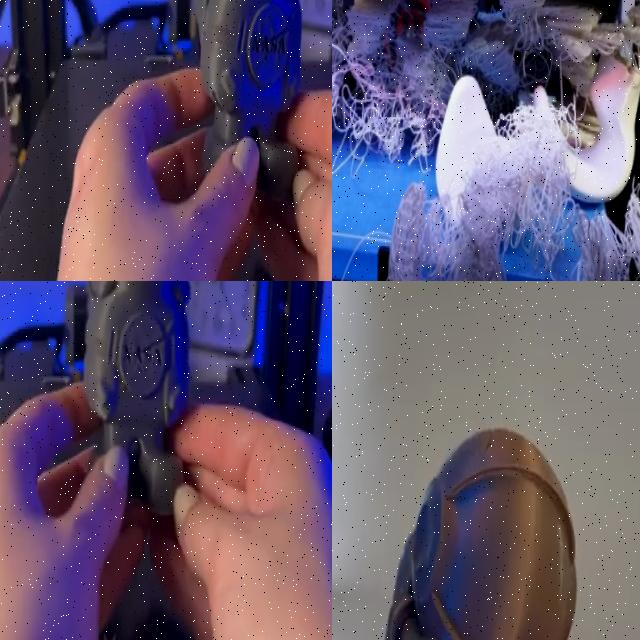spaghetti: (387, 75, 640, 281), (332, 0, 423, 175)
